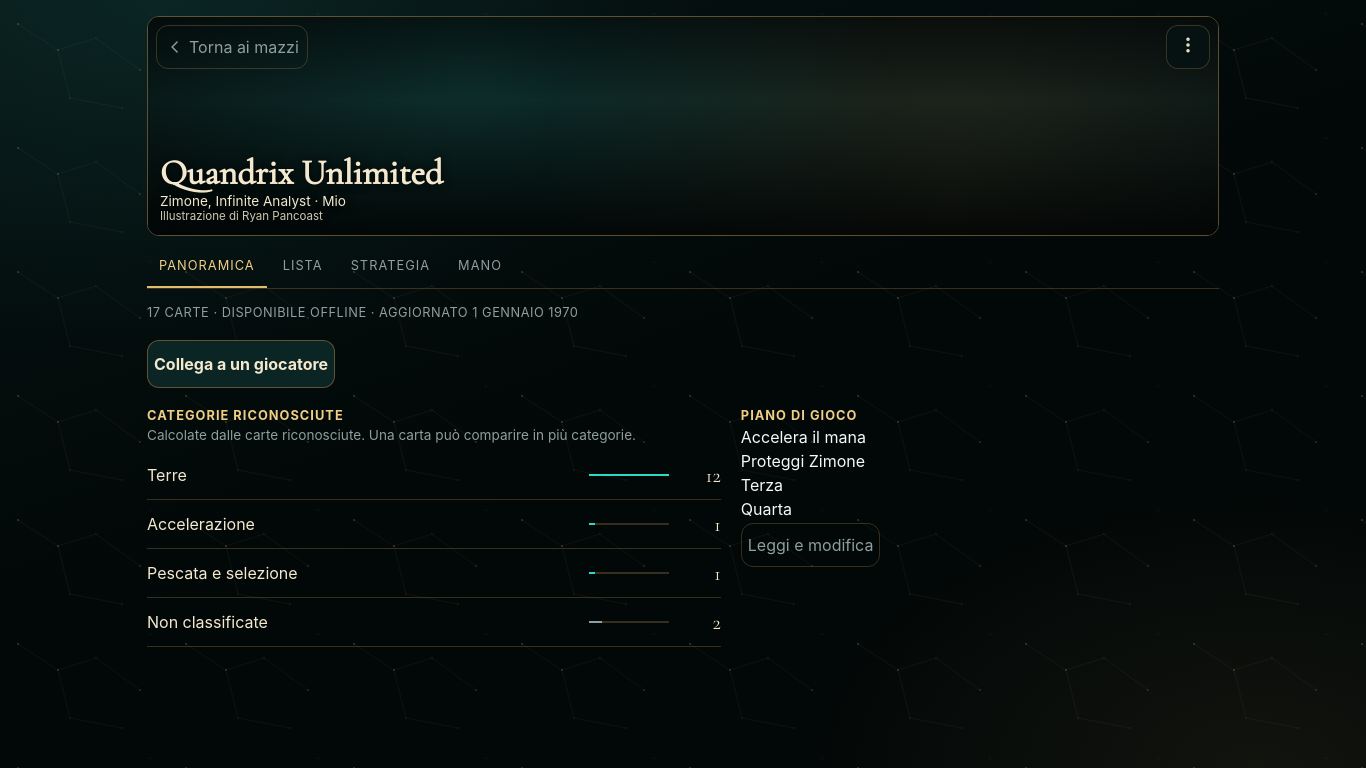
Test: deck detail (R3 §6–8) › lists the categories with their cards, never as percentages; the plan shows the first four lines
Check: the text "carte · Disponibile offline · Aggiornato" is shown, box [147,305,578,320]
Click the button "Accelerazione 1".
click(201, 524)  # box [147,500,721,548]
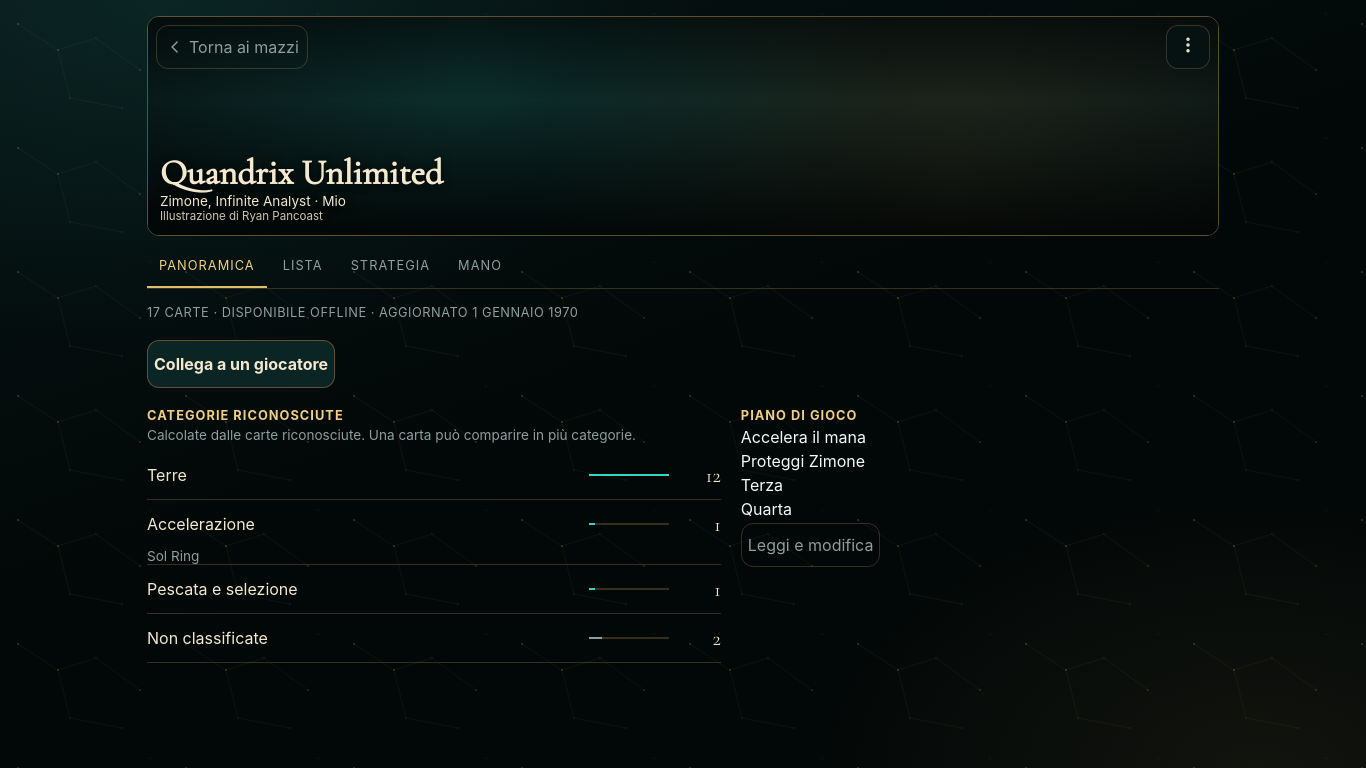
Check: the button "Non classificate 2" is shown, box [147,614,721,662]
Check: the list reads "Sol Ring", box [147,548,199,564]
Click the button "Leggi e modifica".
click(811, 545)  # box [741,523,880,567]
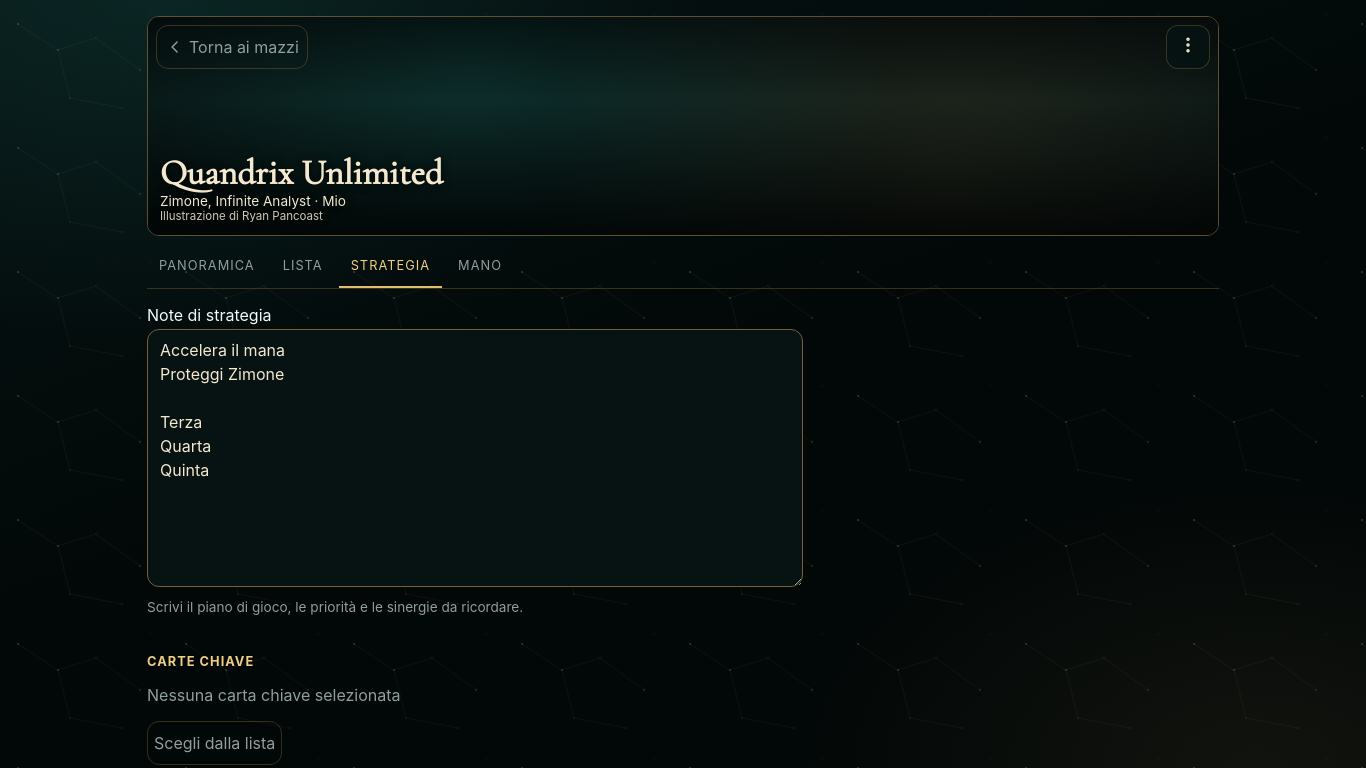
Check: the text box labelled "Note di strategia" is shown, box [147,329,803,587]
